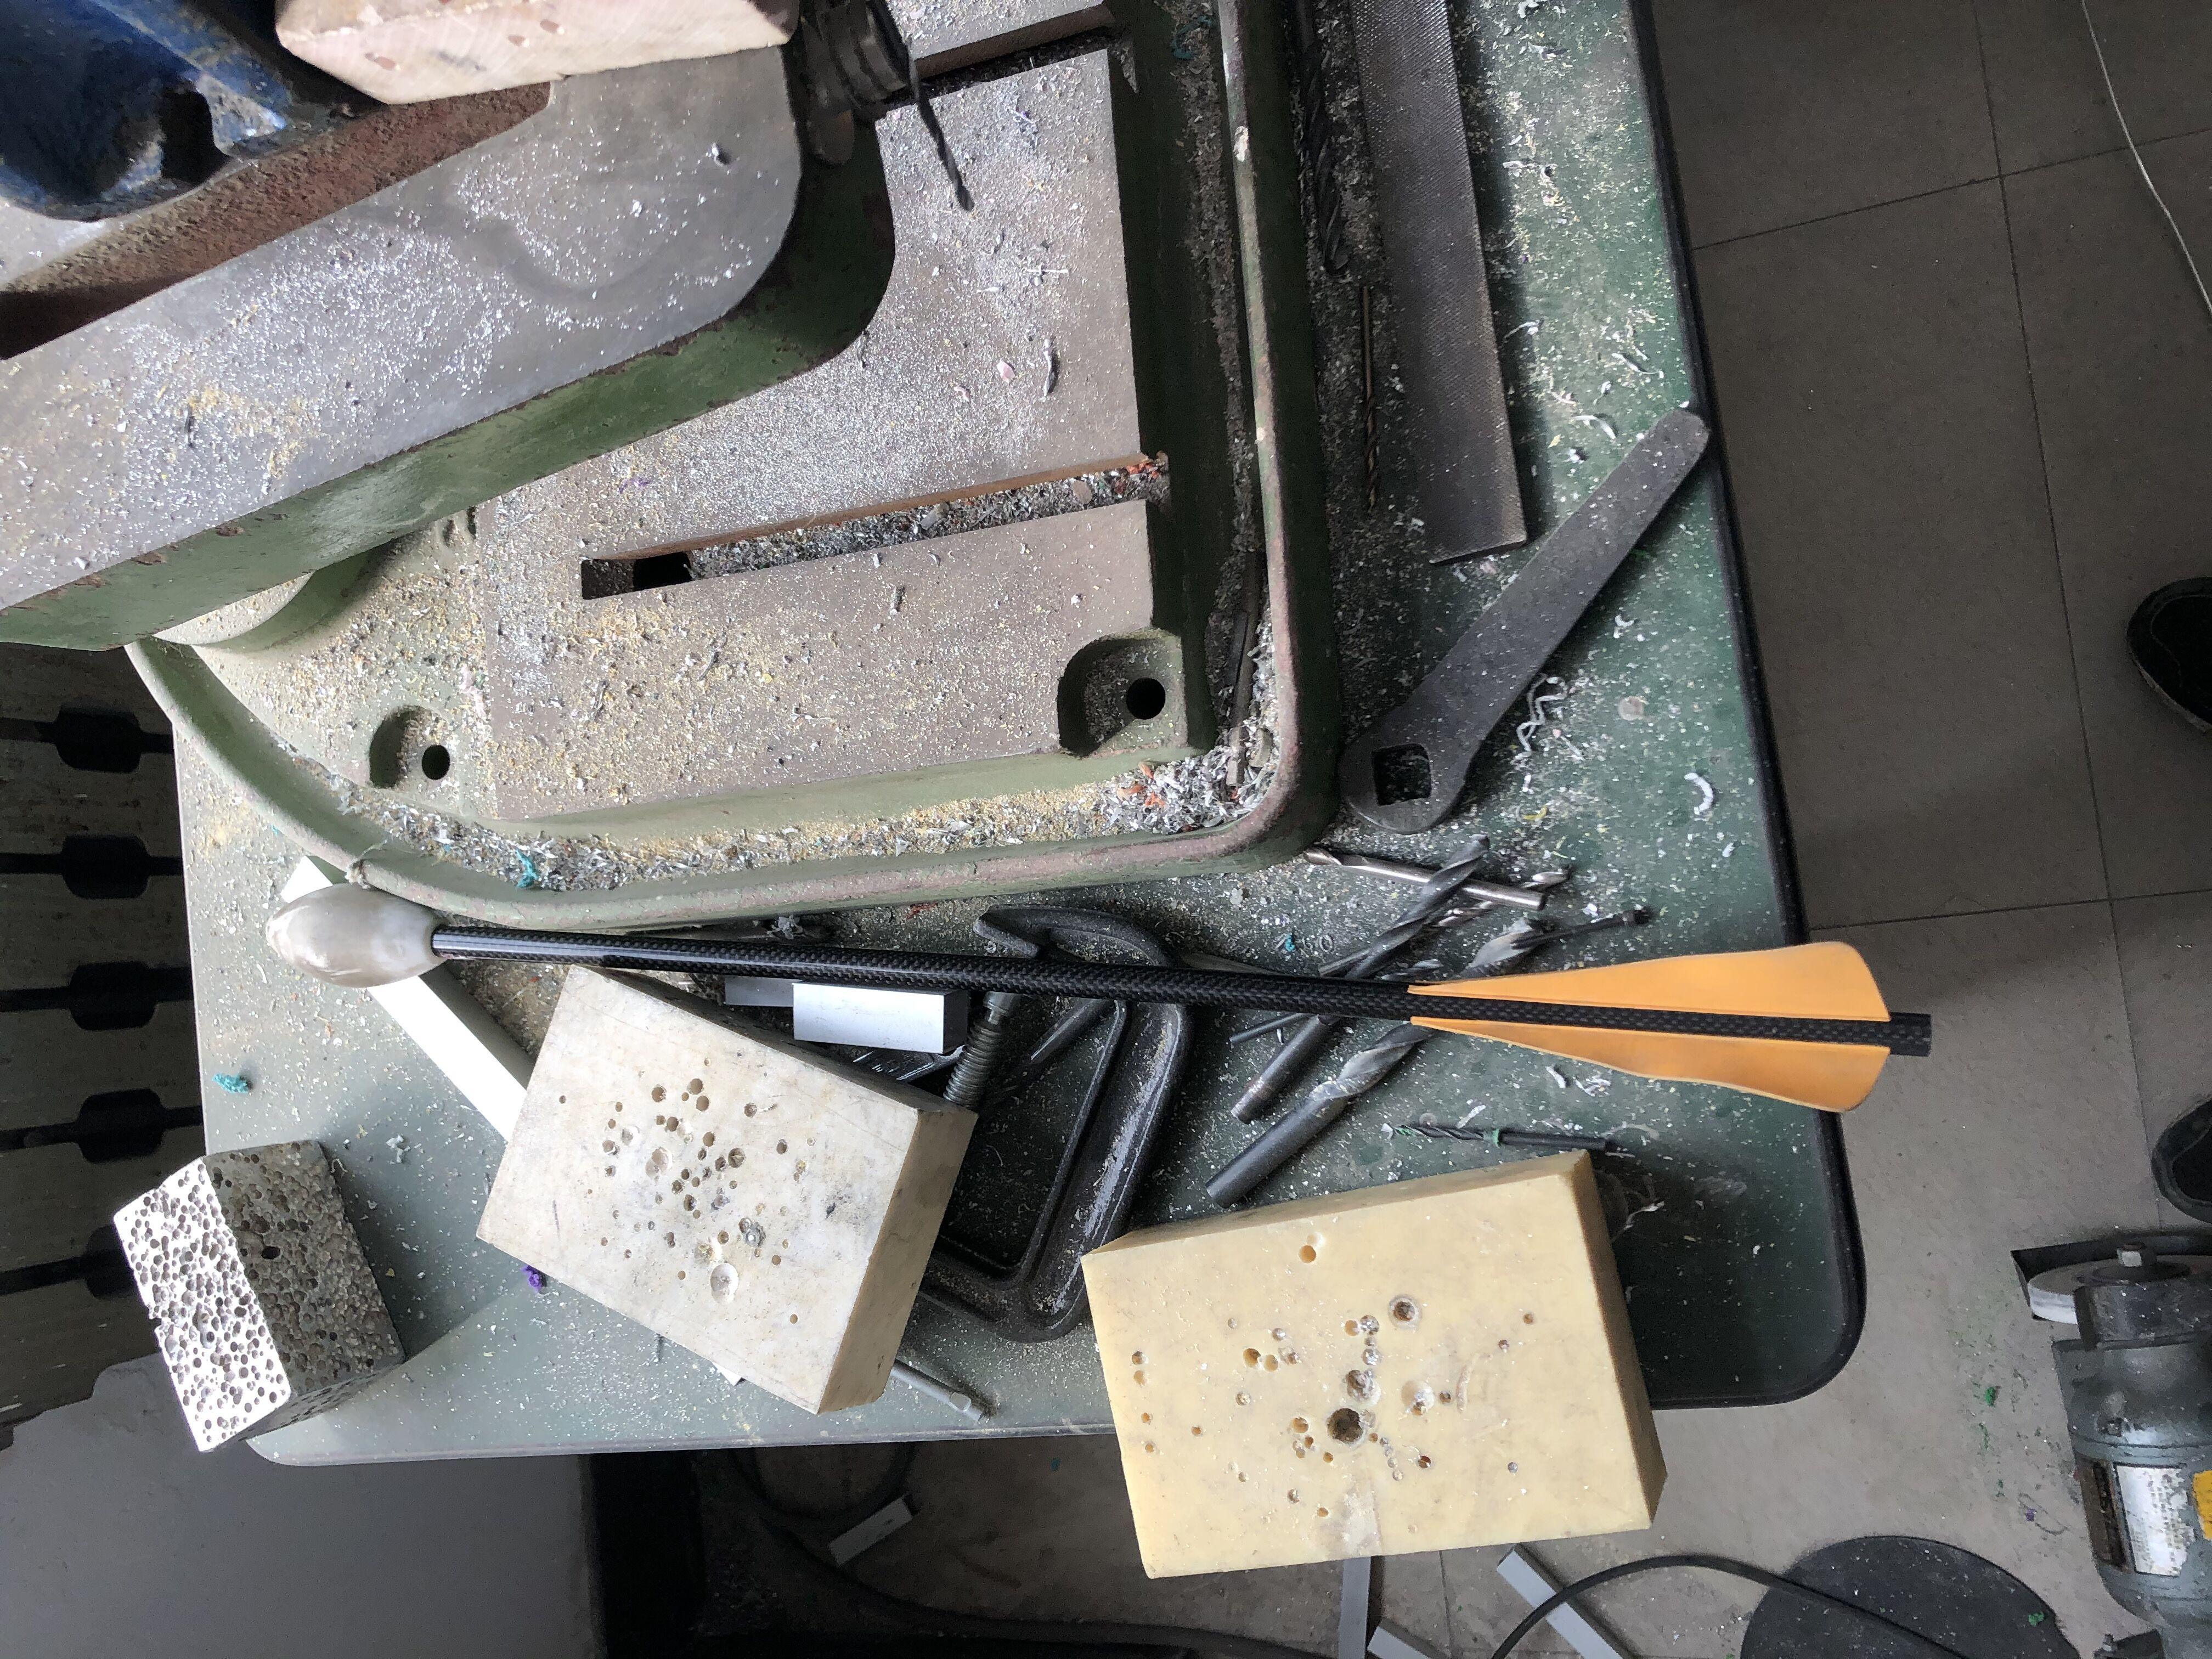arrow: (263, 887, 1933, 1112)
arrowFront: (263, 887, 444, 992)
